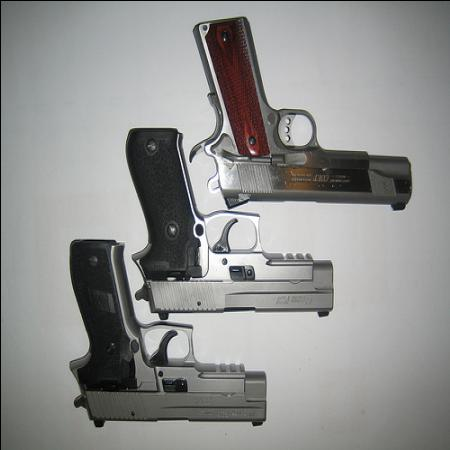Pistol: (190, 16, 412, 212), (126, 126, 333, 320), (66, 239, 268, 431)
